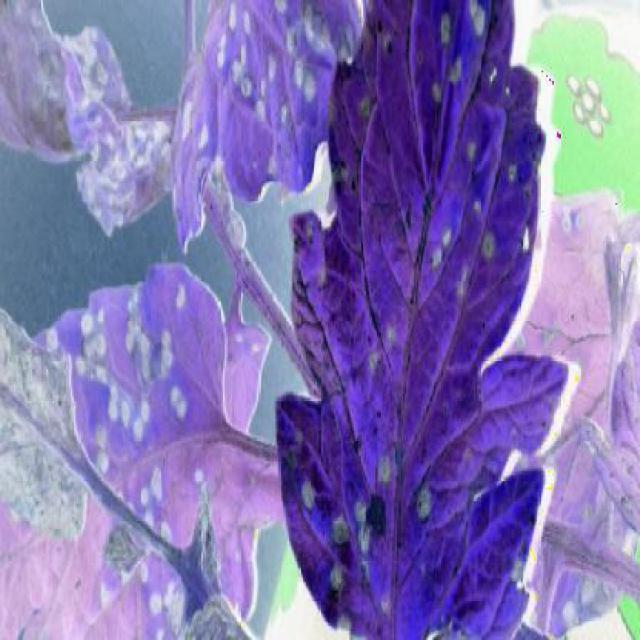Tomato Septoria spot leaf: (272, 5, 570, 638), (2, 257, 266, 637), (9, 19, 176, 272)
